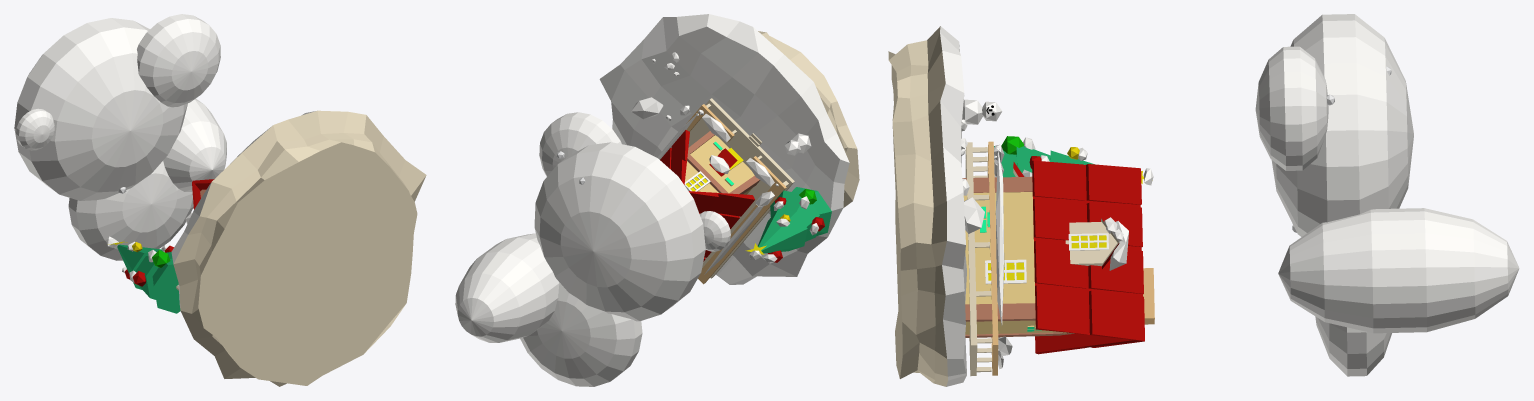
File: asset.glb
3 renders of one model, left to right at view 1: azimuth 30°, elevation 25°; view 2: azimuth 150°, elevation 25°; view 3: azimuth 270°, elevation 25°, orthographic. The views are drawn at different scales.
Visible parts, largest first — view 1: Cube; view 2: Cube; view 3: Cube.
Boxes of the visible parts, left/top/right/bottom form: Cube: left=14, top=14, right=426, bottom=386; Cube: left=455, top=14, right=859, bottom=386; Cube: left=888, top=14, right=1519, bottom=386.
Bounding box in the file's own units: 1.84 × 1.73 × 2.85.
